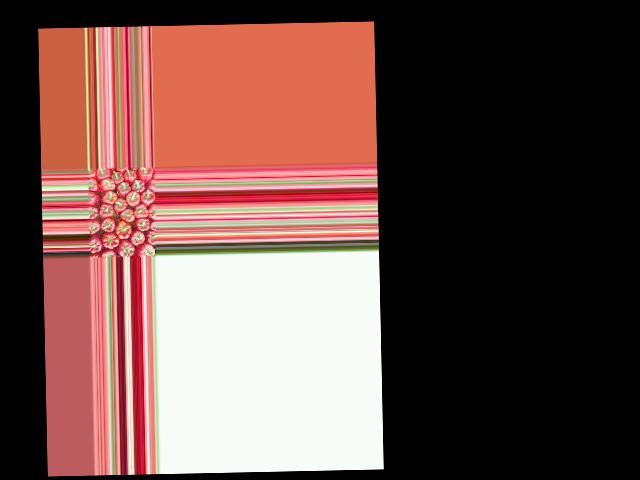bell_pepper: (139, 167, 153, 182)
